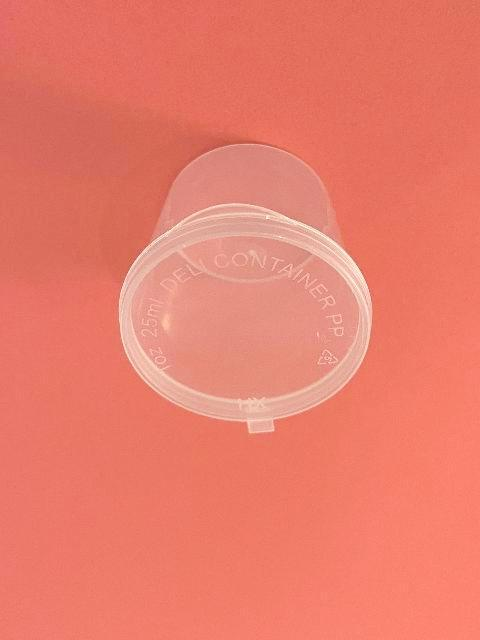plasticcontainer: (116, 140, 374, 436)
